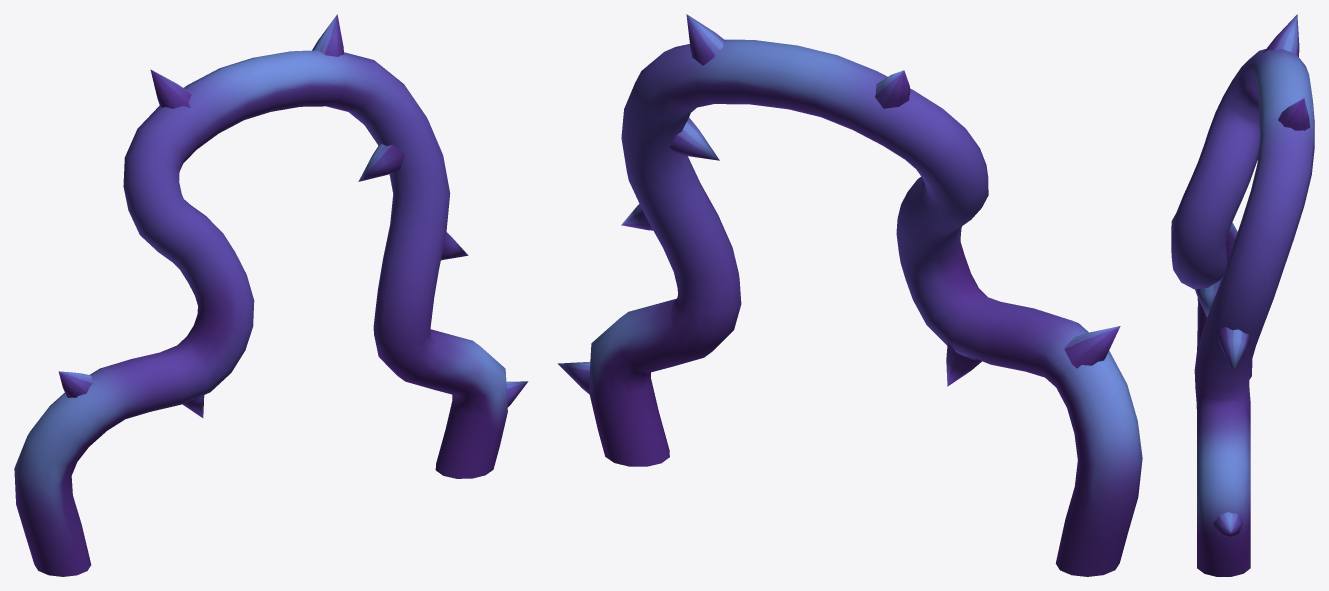
File: ThornVine_S_01.fbx
3 views of the same model, side by side, from view 1: azimuth 30°, elevation 25°; view 2: azimuth 150°, elevation 25°; view 3: azimuth 270°, elevation 25° (orthographic). The views are drawn at different scales.
Parts seen in each view (by area): view 1: ThornVine_S_1; view 2: ThornVine_S_1; view 3: ThornVine_S_1.
Boxes of the visible parts, x1,y1,x2,y2 form: ThornVine_S_1: [14, 14, 528, 576]; ThornVine_S_1: [558, 14, 1142, 576]; ThornVine_S_1: [1171, 14, 1314, 576].
Size of the model in its own units: 103 by 84.79 by 25.84.
